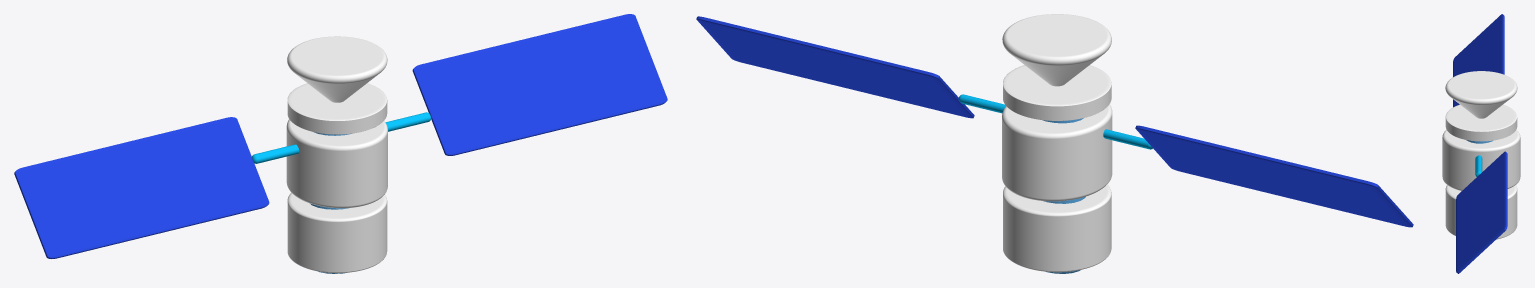
3 views of the same model, side by side, from view 1: azimuth 30°, elevation 25°; view 2: azimuth 150°, elevation 25°; view 3: azimuth 270°, elevation 25° (orthographic). The views are drawn at different scales.
Visible parts, largest first — view 1: right, left, center, bottom, Cone, Cylinder, connect-lie; view 2: right, left, center, bottom, Cone, Cylinder, connect-lie; view 3: left, center, Cone, Cylinder, right, bottom, connect-lie, inner.
Part boxes in pixels (box(x1,y1,x2,y2)): right: box(14, 117, 269, 258); left: box(412, 14, 667, 155); center: box(286, 119, 387, 208); bottom: box(287, 192, 387, 273); Cone: box(287, 36, 387, 102); Cylinder: box(287, 83, 387, 134); connect-lie: box(252, 112, 431, 163); right: box(1135, 125, 1413, 227); left: box(696, 16, 974, 118); center: box(1002, 104, 1112, 201); bottom: box(1003, 184, 1111, 272); Cone: box(1002, 14, 1111, 86); Cylinder: box(1003, 65, 1111, 120); connect-lie: box(958, 94, 1152, 149); left: box(1456, 151, 1507, 273); center: box(1442, 130, 1520, 190); Cone: box(1445, 71, 1517, 118); Cylinder: box(1445, 104, 1517, 141); right: box(1453, 14, 1504, 107); bottom: box(1445, 185, 1517, 239); connect-lie: box(1475, 155, 1482, 176); inner: box(1466, 140, 1492, 143).
Bounding box in the file's own units: 0.7204 × 0.23 × 0.109.
